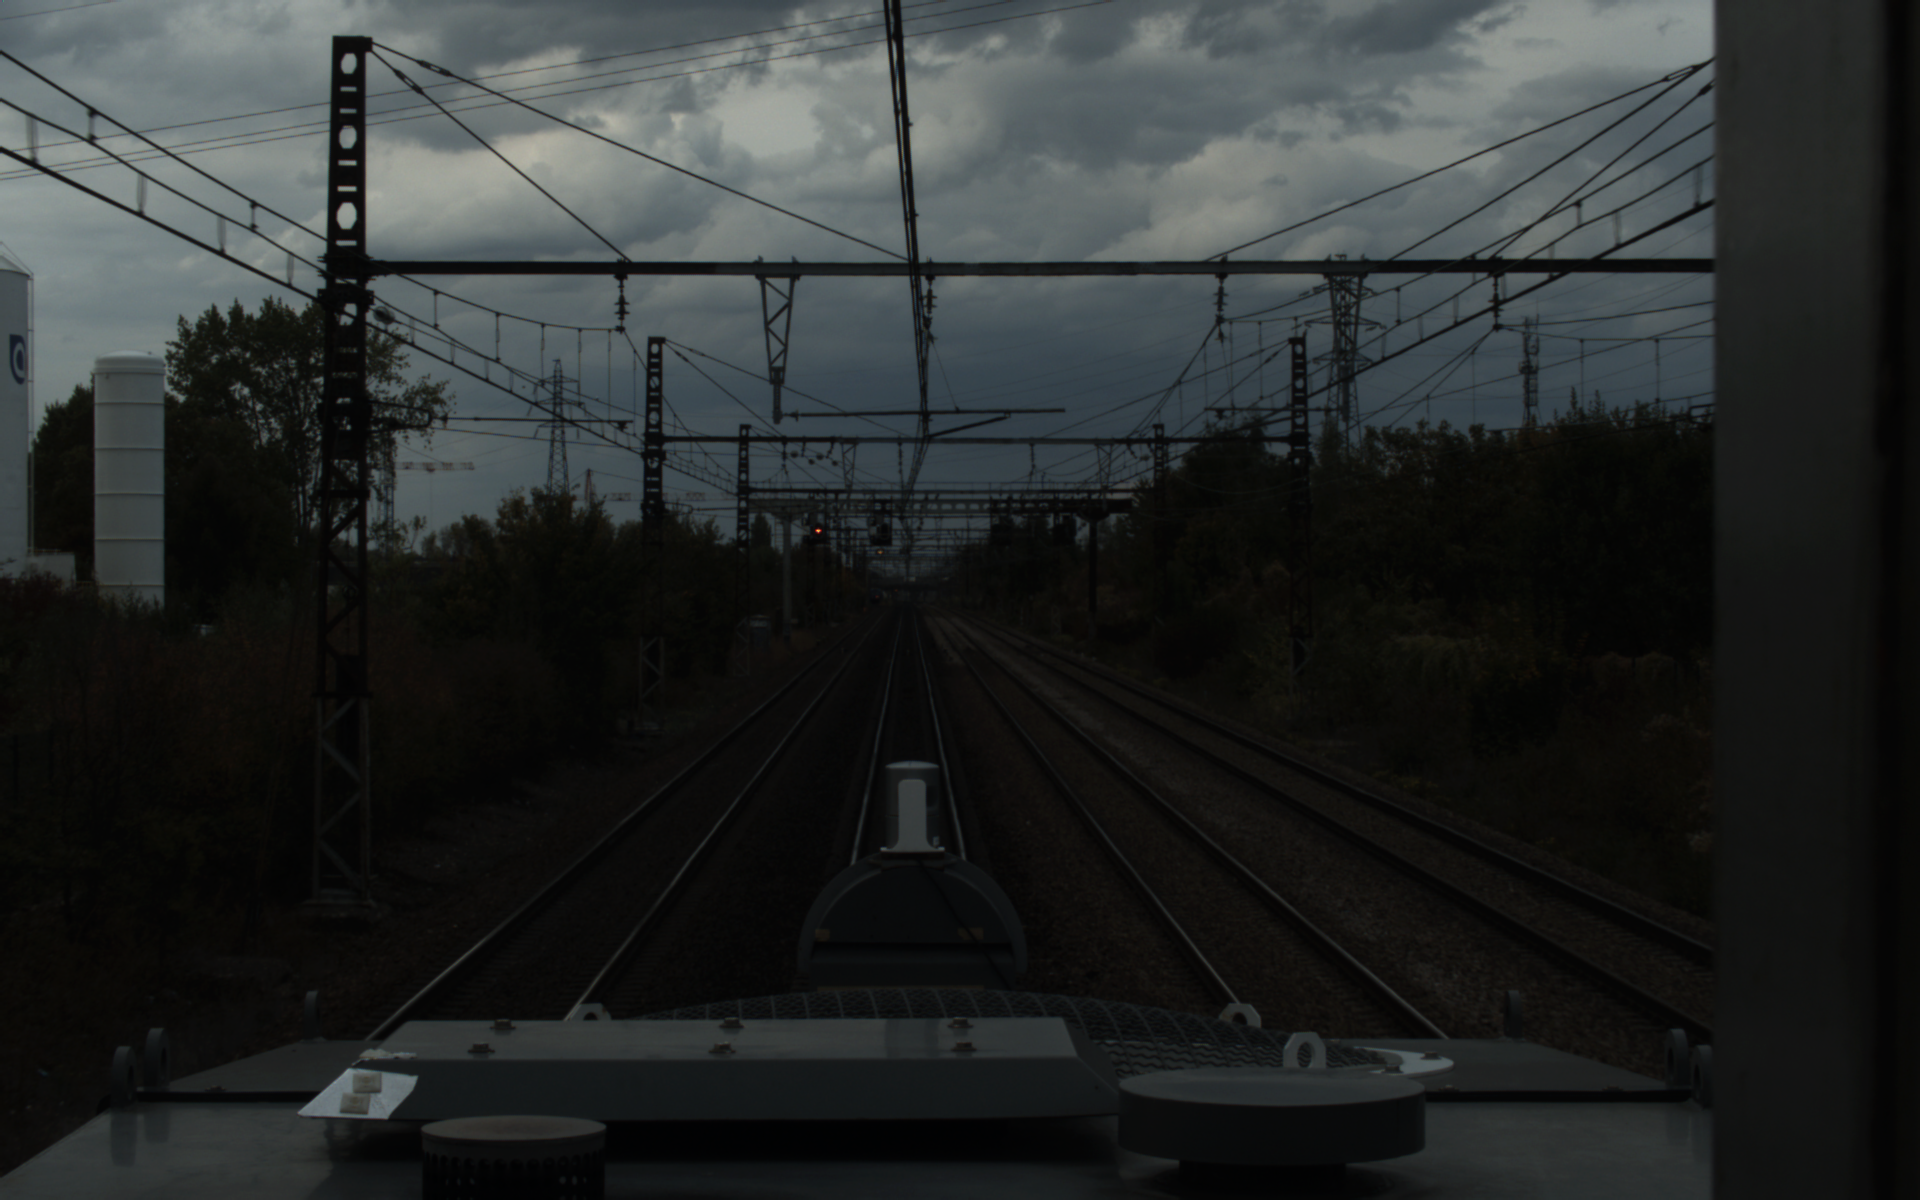Blinking: (876, 523, 892, 542)
Fixed: (810, 520, 825, 541)
